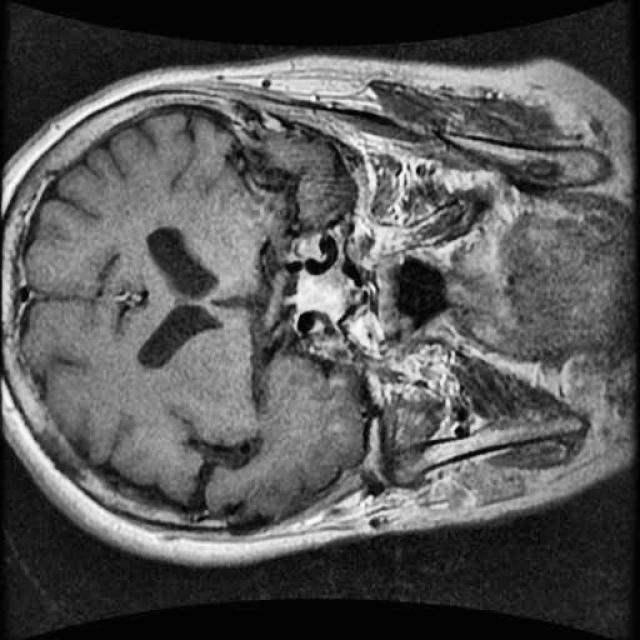Tumor: (281, 262, 362, 324)
